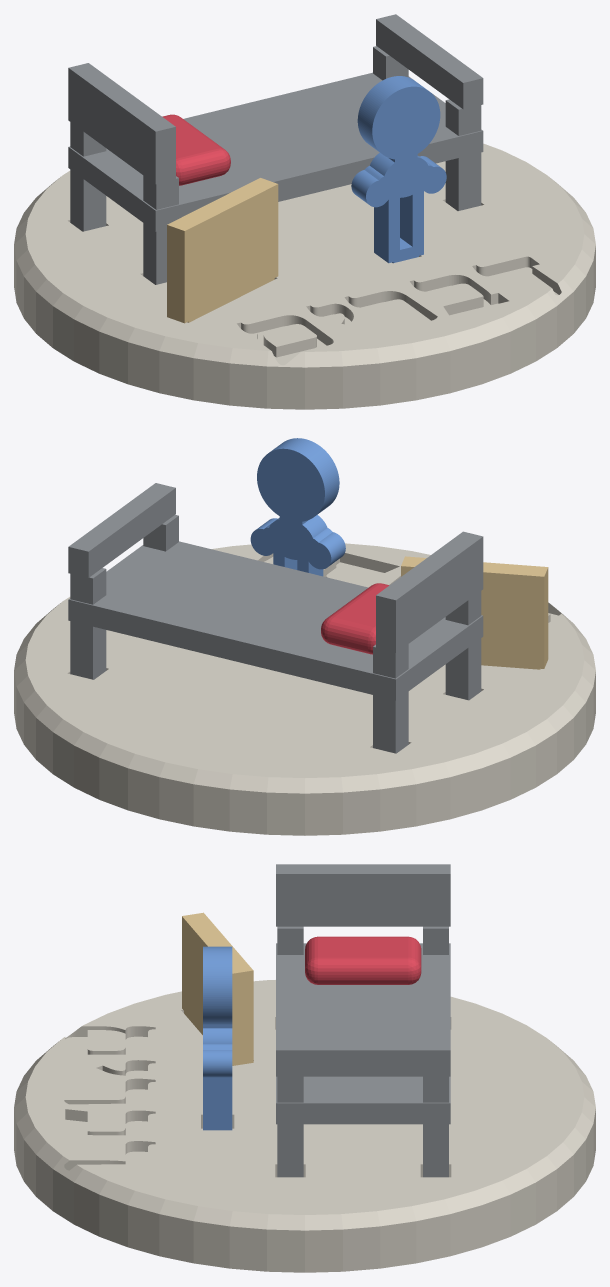
File: devarim.glb
3 views of the same model, one above another, from view 1: azimuth 30°, elevation 25°; view 2: azimuth 150°, elevation 25°; view 3: azimuth 270°, elevation 25° (orthographic).
Parts seen in each view (by area): view 1: stage, bed, plaque, person, pillow; view 2: stage, bed, person, plaque, pillow; view 3: stage, bed, pillow, person, plaque.
Boxes of the visible parts, x1=… form: stage: x1=14, y1=143, x2=595, y2=409; bed: x1=68, y1=14, x2=483, y2=284; plaque: x1=167, y1=178, x2=278, y2=323; person: x1=351, y1=76, x2=446, y2=263; pillow: x1=162, y1=114, x2=230, y2=185; stage: x1=14, y1=543, x2=595, y2=835; bed: x1=68, y1=483, x2=483, y2=753; person: x1=250, y1=438, x2=345, y2=576; plaque: x1=401, y1=556, x2=548, y2=669; pillow: x1=321, y1=583, x2=388, y2=654; stage: x1=14, y1=980, x2=595, y2=1272; bed: x1=276, y1=864, x2=450, y2=1177; pillow: x1=305, y1=936, x2=421, y2=984; person: x1=203, y1=946, x2=232, y2=1130; plaque: x1=182, y1=912, x2=253, y2=1065.
Bounding box in the file's own units: 40 × 17 × 40.
